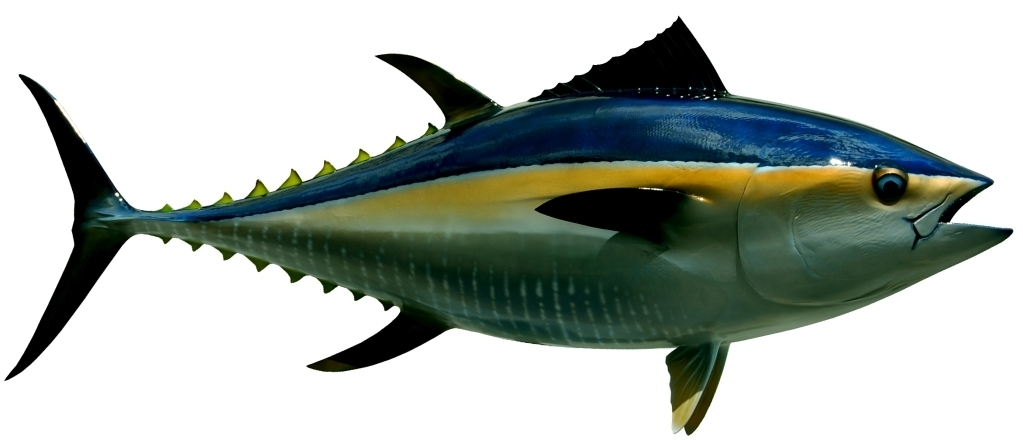Bluefina Tuna: (12, 24, 1021, 415)
